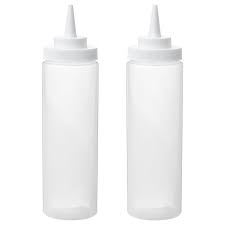available: (40, 26, 107, 222), (125, 31, 190, 224)
